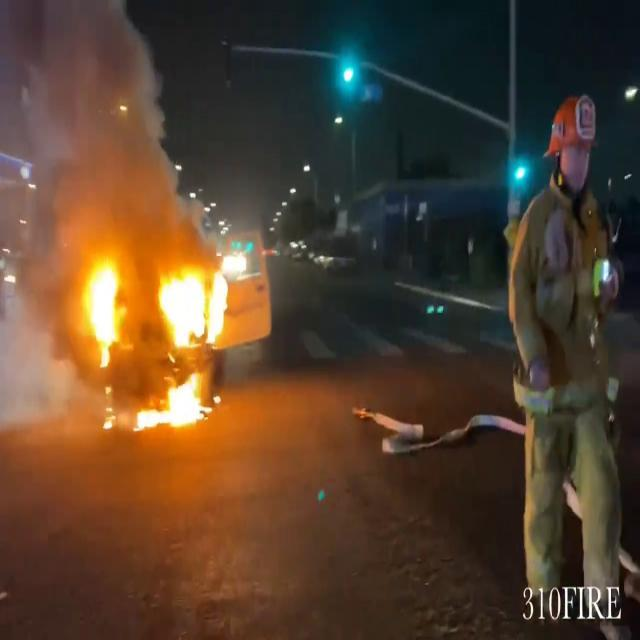Fire: (79, 234, 237, 432), (81, 248, 128, 360)
Smoke: (2, 0, 196, 264)
